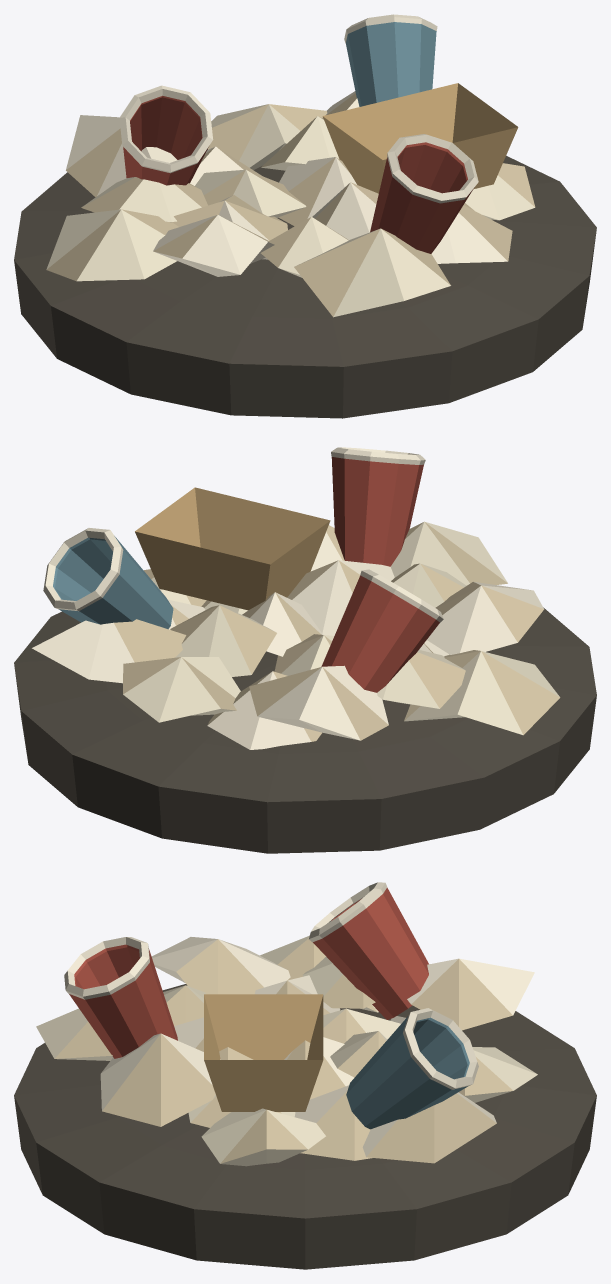
File: lwf_bin_rubbish_partfull_v1.glb
The picture shows the model from 3 angles, top to bottom: view 1: azimuth 30°, elevation 25°; view 2: azimuth 150°, elevation 25°; view 3: azimuth 270°, elevation 25°; orthographic projection.
Parts seen in each view (by area): view 1: LWF_Bin_Rubbish_PartFull; view 2: LWF_Bin_Rubbish_PartFull; view 3: LWF_Bin_Rubbish_PartFull.
Boxes of the visible parts, <box> form: LWF_Bin_Rubbish_PartFull: <box>14,14,596,418</box>; LWF_Bin_Rubbish_PartFull: <box>14,447,596,853</box>; LWF_Bin_Rubbish_PartFull: <box>14,882,596,1269</box>.
Size of the model in its own units: 0.488 by 0.1988 by 0.488.
Materials: 1 (1 with a texture image).
